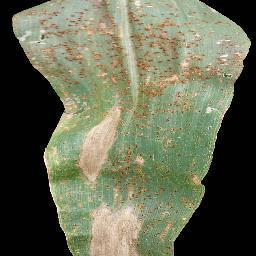Corn_Common_Rust: (9, 0, 254, 86), (31, 91, 239, 189), (42, 189, 211, 256)
